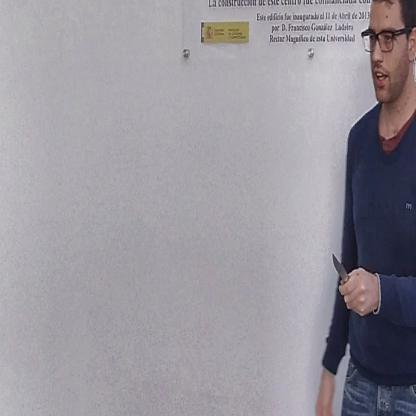knife: (328, 245, 358, 302)
